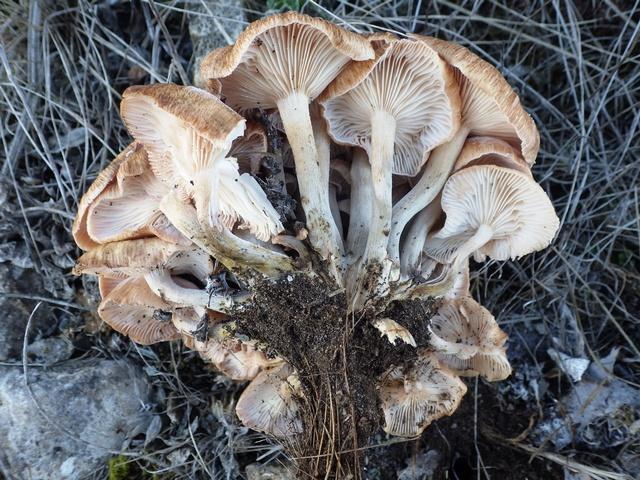edible_mushroom: (70, 11, 560, 446), (197, 10, 379, 287)
